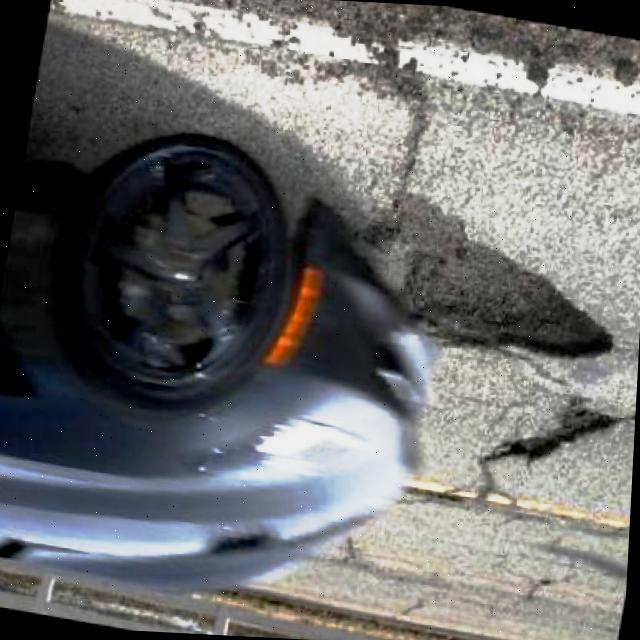pothole: (377, 186, 626, 364), (485, 393, 622, 478)
